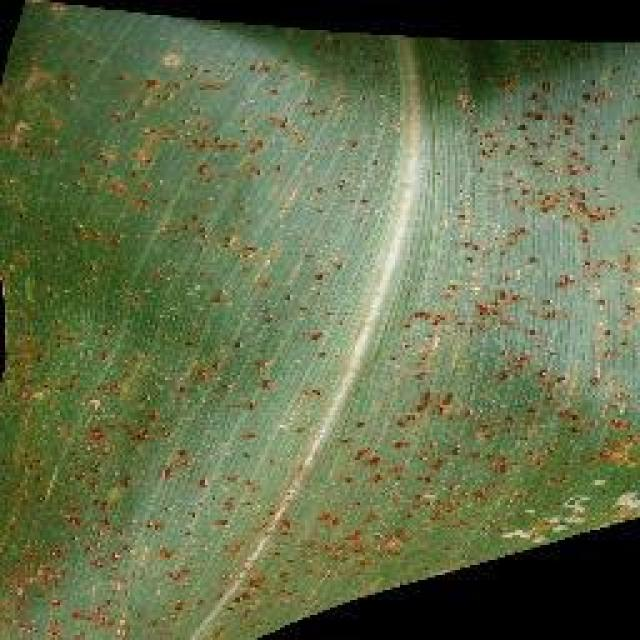Corn Common Rust: (153, 76, 632, 542)
